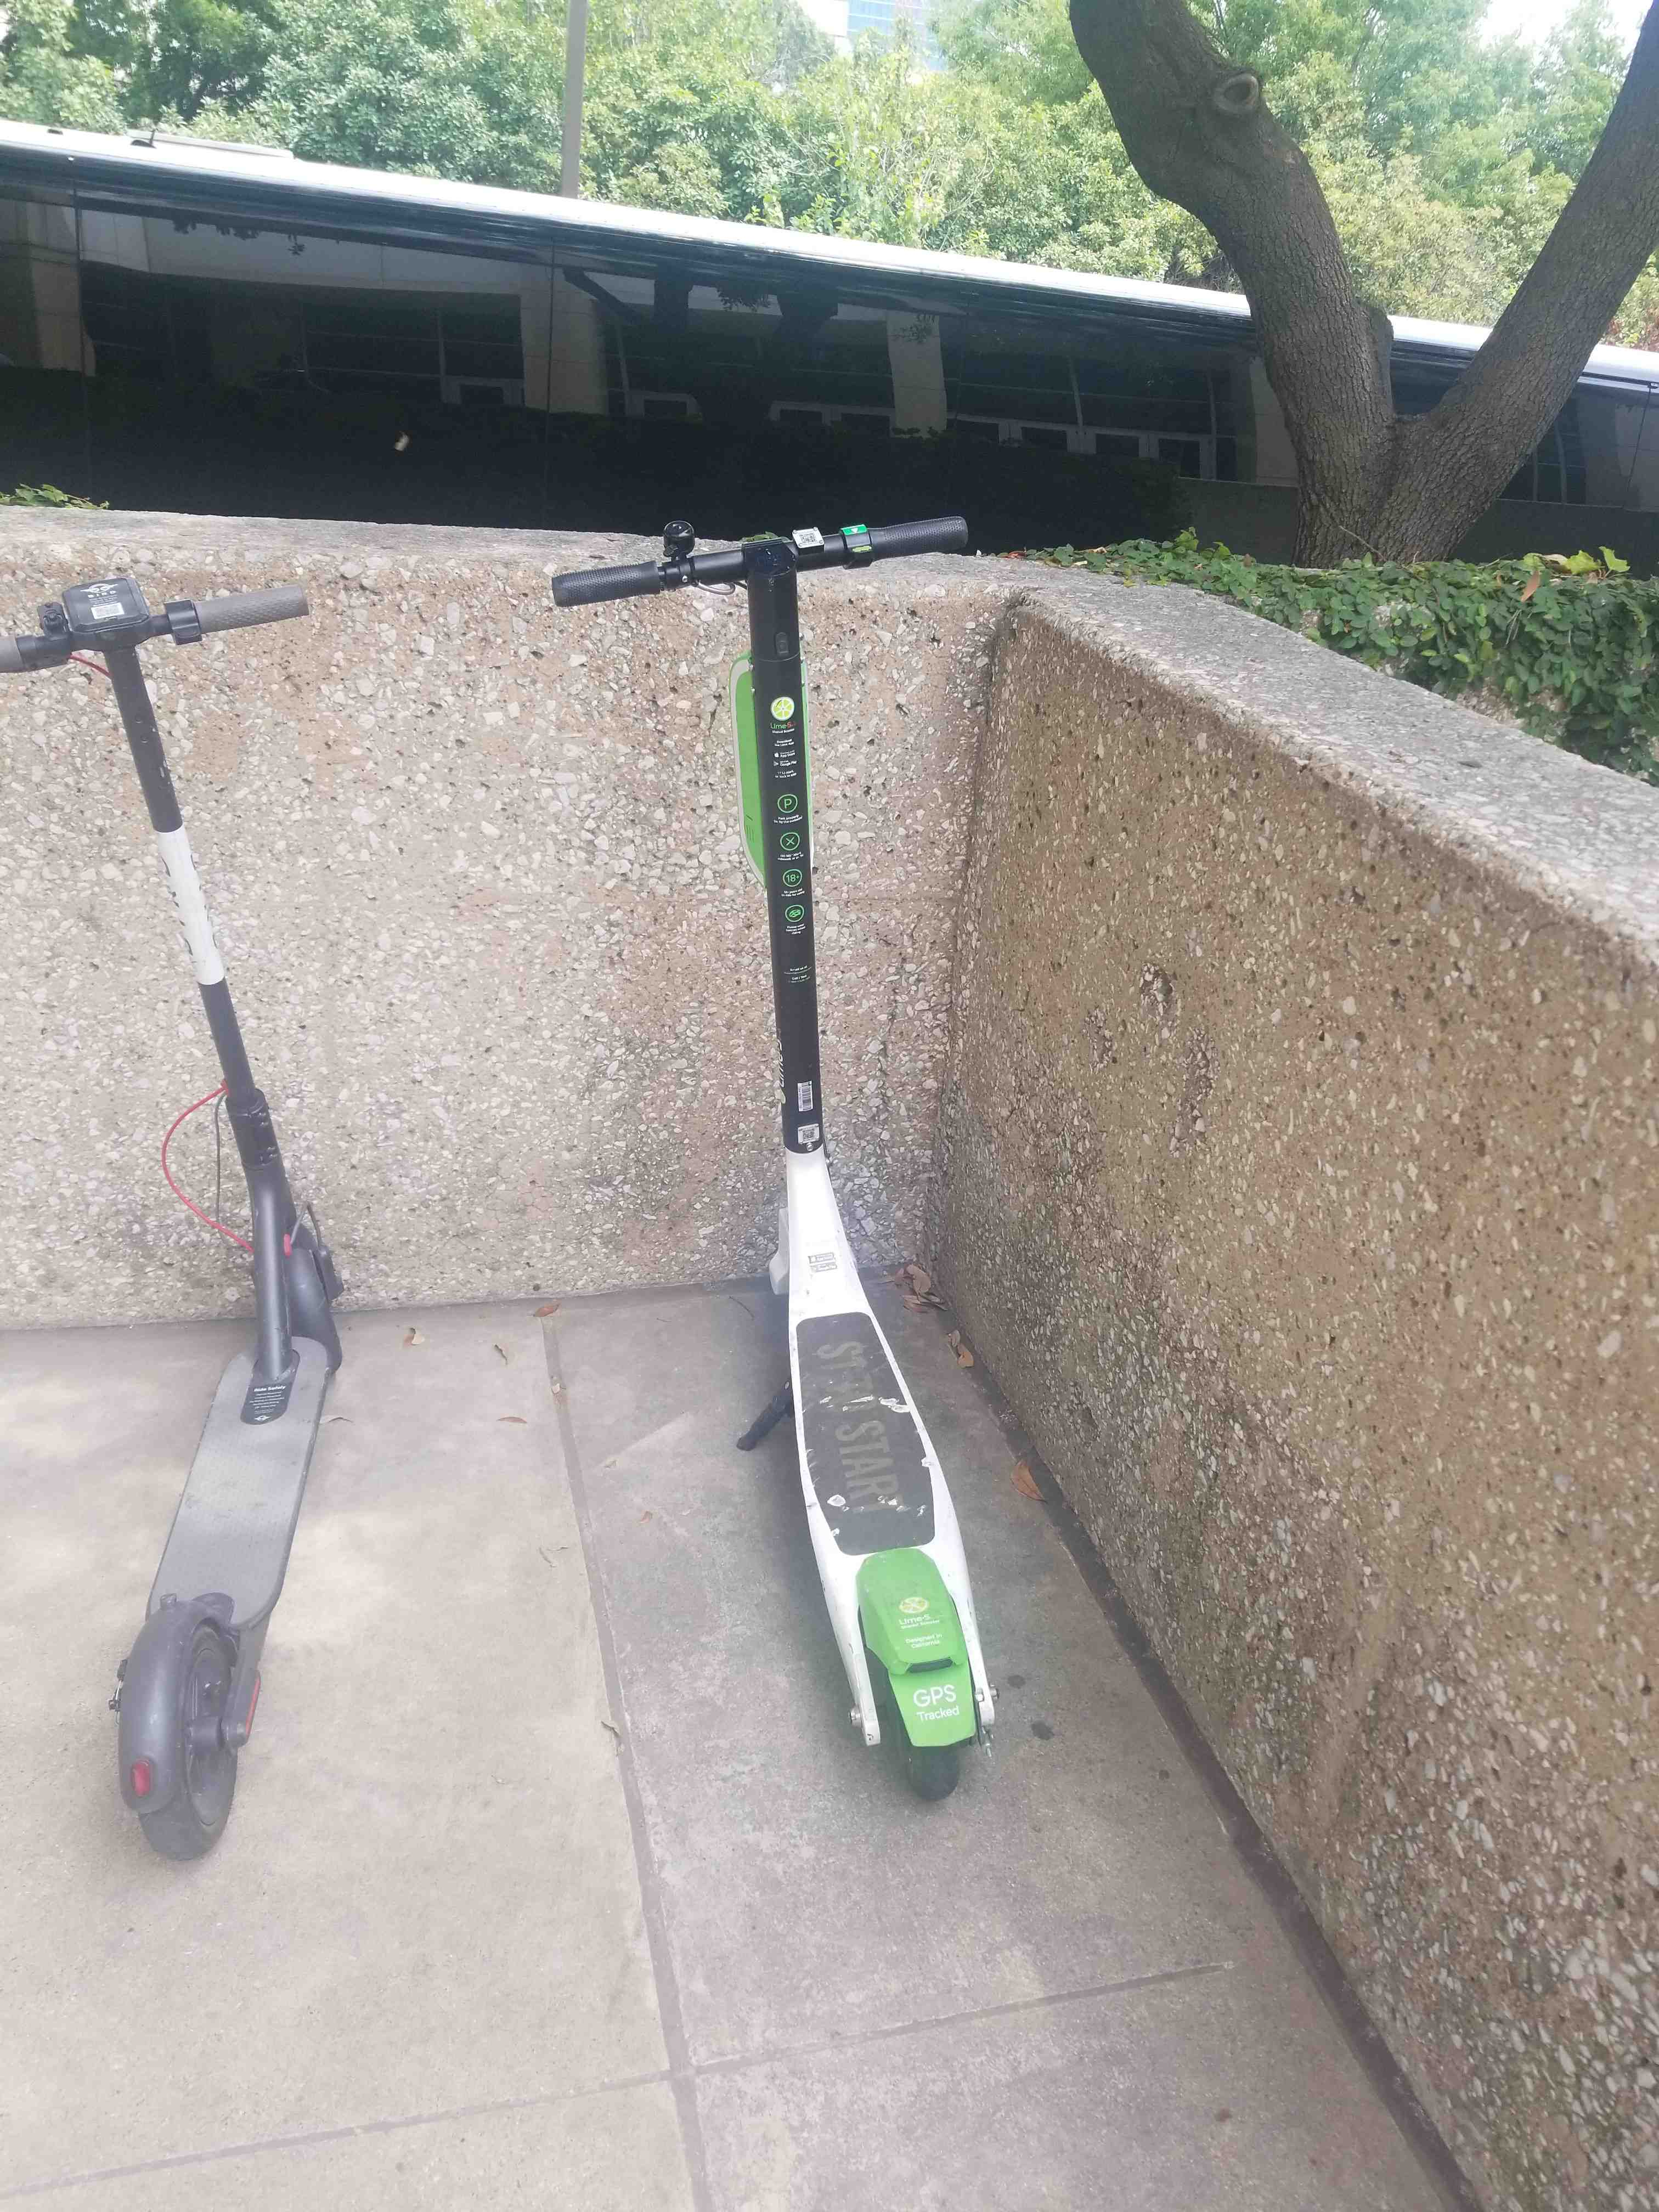scooter: (469, 467, 1136, 1794)
